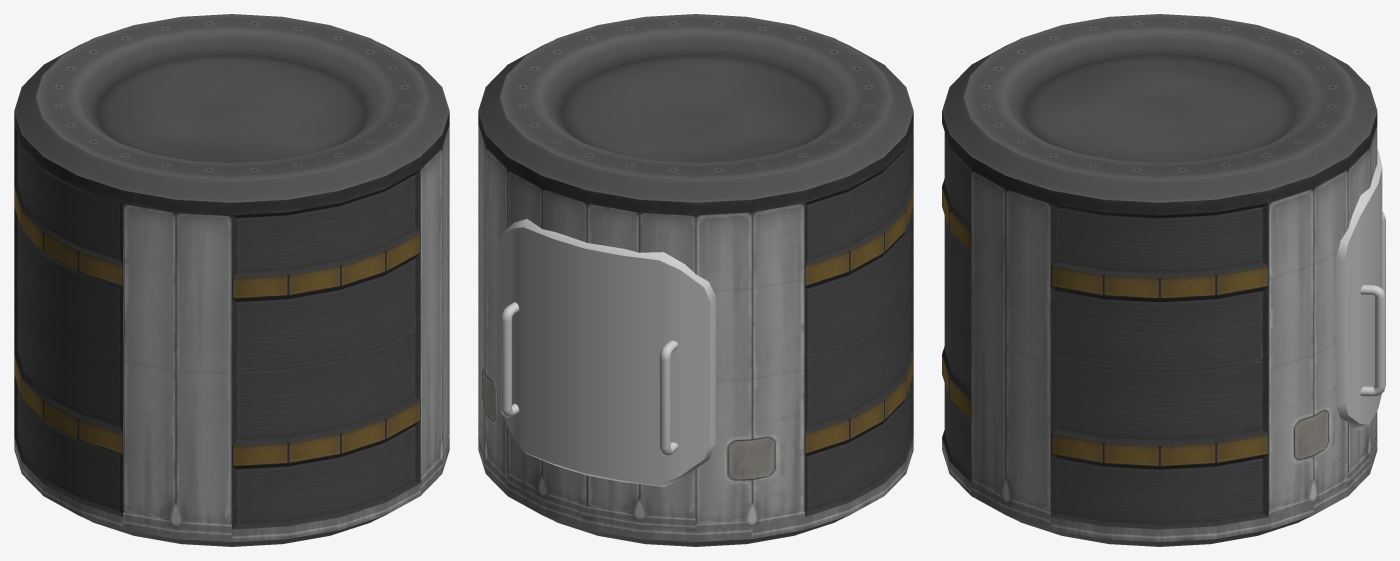
Rendered from Agena_Resupply_Module.dae.
3 renders of one model, left to right at view 1: azimuth 30°, elevation 25°; view 2: azimuth 150°, elevation 25°; view 3: azimuth 270°, elevation 25°, orthographic.
Visible parts, largest first — view 1: polySurface54, polySurface40; view 2: polySurface54, polySurface40, AgenaCargoModule1_Lander_Door6; view 3: polySurface54, polySurface40, AgenaCargoModule1_Lander_Door6.
Boxes of the visible parts, x1,y1,x2,y2 form: polySurface54: (14, 14, 449, 546); polySurface40: (14, 111, 449, 541); polySurface54: (478, 14, 913, 546); polySurface40: (478, 111, 913, 541); AgenaCargoModule1_Lander_Door6: (496, 219, 715, 487); polySurface54: (942, 14, 1377, 546); polySurface40: (942, 111, 1377, 541); AgenaCargoModule1_Lander_Door6: (1336, 149, 1385, 430).
Size of the model in its own units: 1.04 by 0.971 by 1.06.
